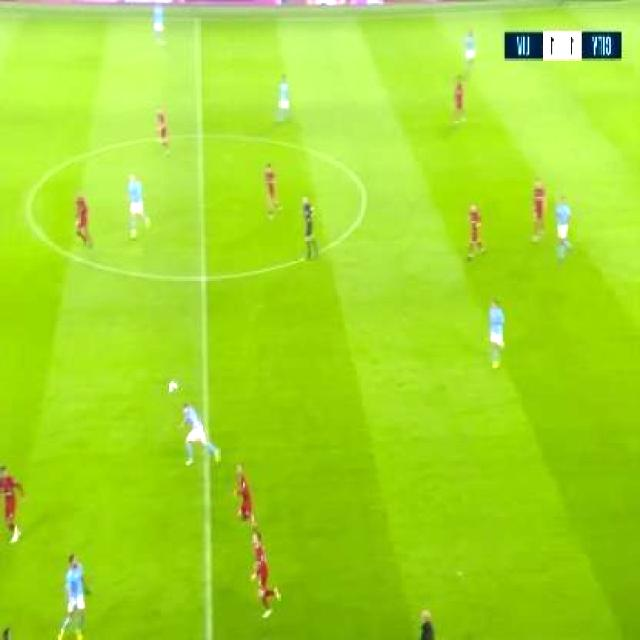halfcircle_bottom: (189, 258, 220, 296)
halfcircle_top: (186, 120, 214, 151)
midline_top_intersection: (186, 1, 209, 37)
